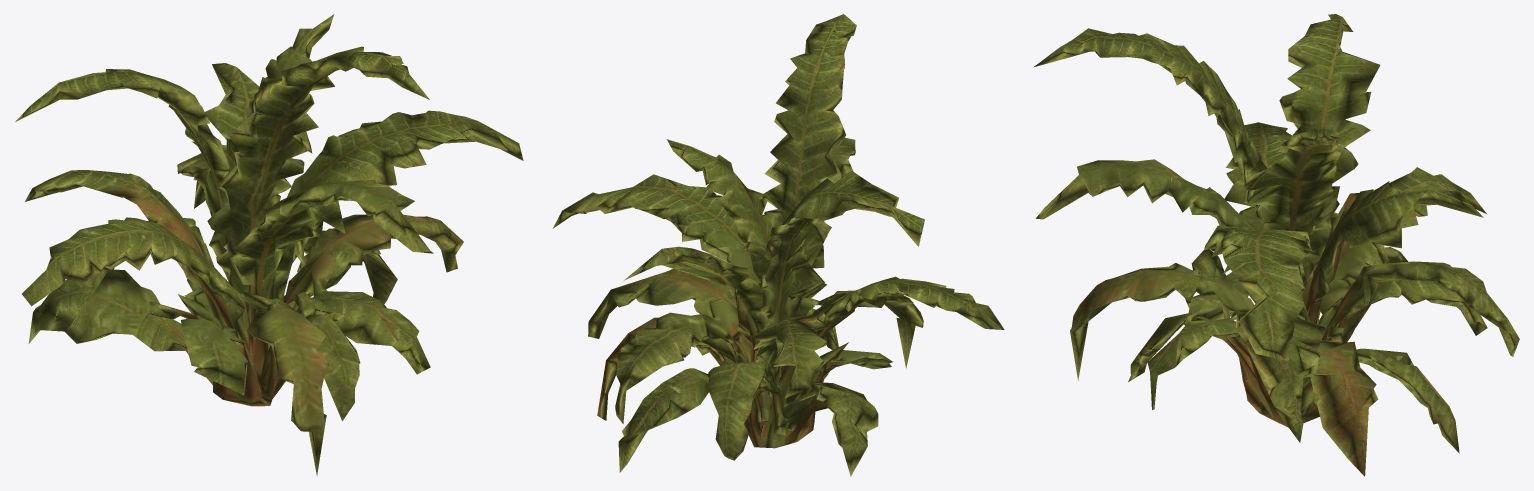
The model's file is helechos.glb.
3 renders of one model, left to right at view 1: azimuth 30°, elevation 25°; view 2: azimuth 150°, elevation 25°; view 3: azimuth 270°, elevation 25°, orthographic. The views are drawn at different scales.
Visible parts, largest first — view 1: aligerado; view 2: aligerado; view 3: aligerado.
Boxes of the visible parts, box(x1,y1,x2,y2) form: aligerado: box(15, 14, 523, 475); aligerado: box(552, 14, 1004, 476); aligerado: box(1034, 14, 1519, 476).
Bounding box in the file's own units: 0.8944 × 0.7 × 0.7755.
Materials: 1 (1 with a texture image).
